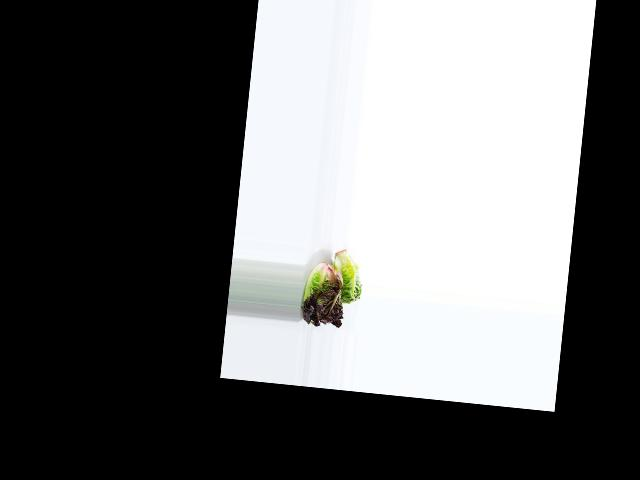lettuce: (327, 246, 366, 306)
